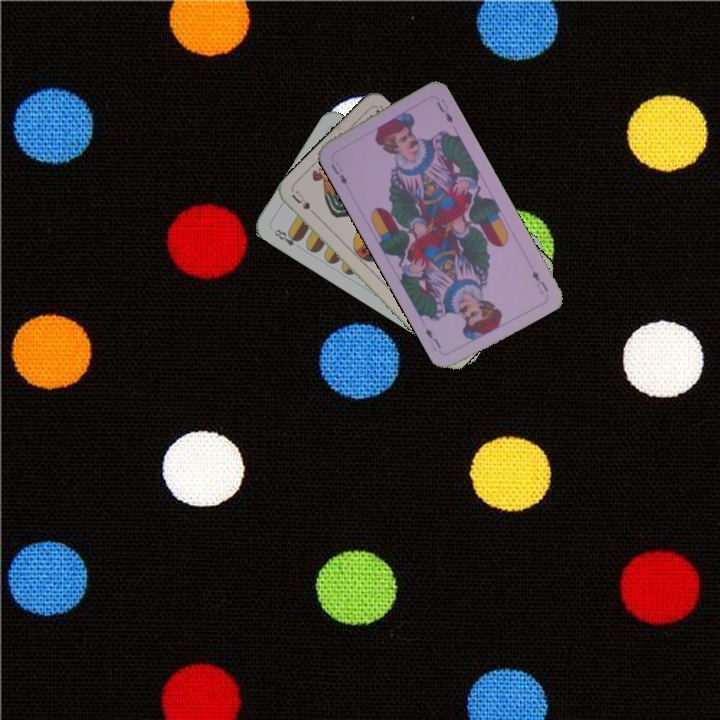E8: (270, 225, 304, 252)
EU: (327, 157, 350, 188), (528, 266, 551, 297)
SU: (288, 187, 322, 221)
